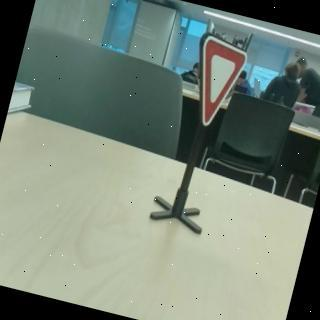sign_yield: (182, 34, 252, 135)
